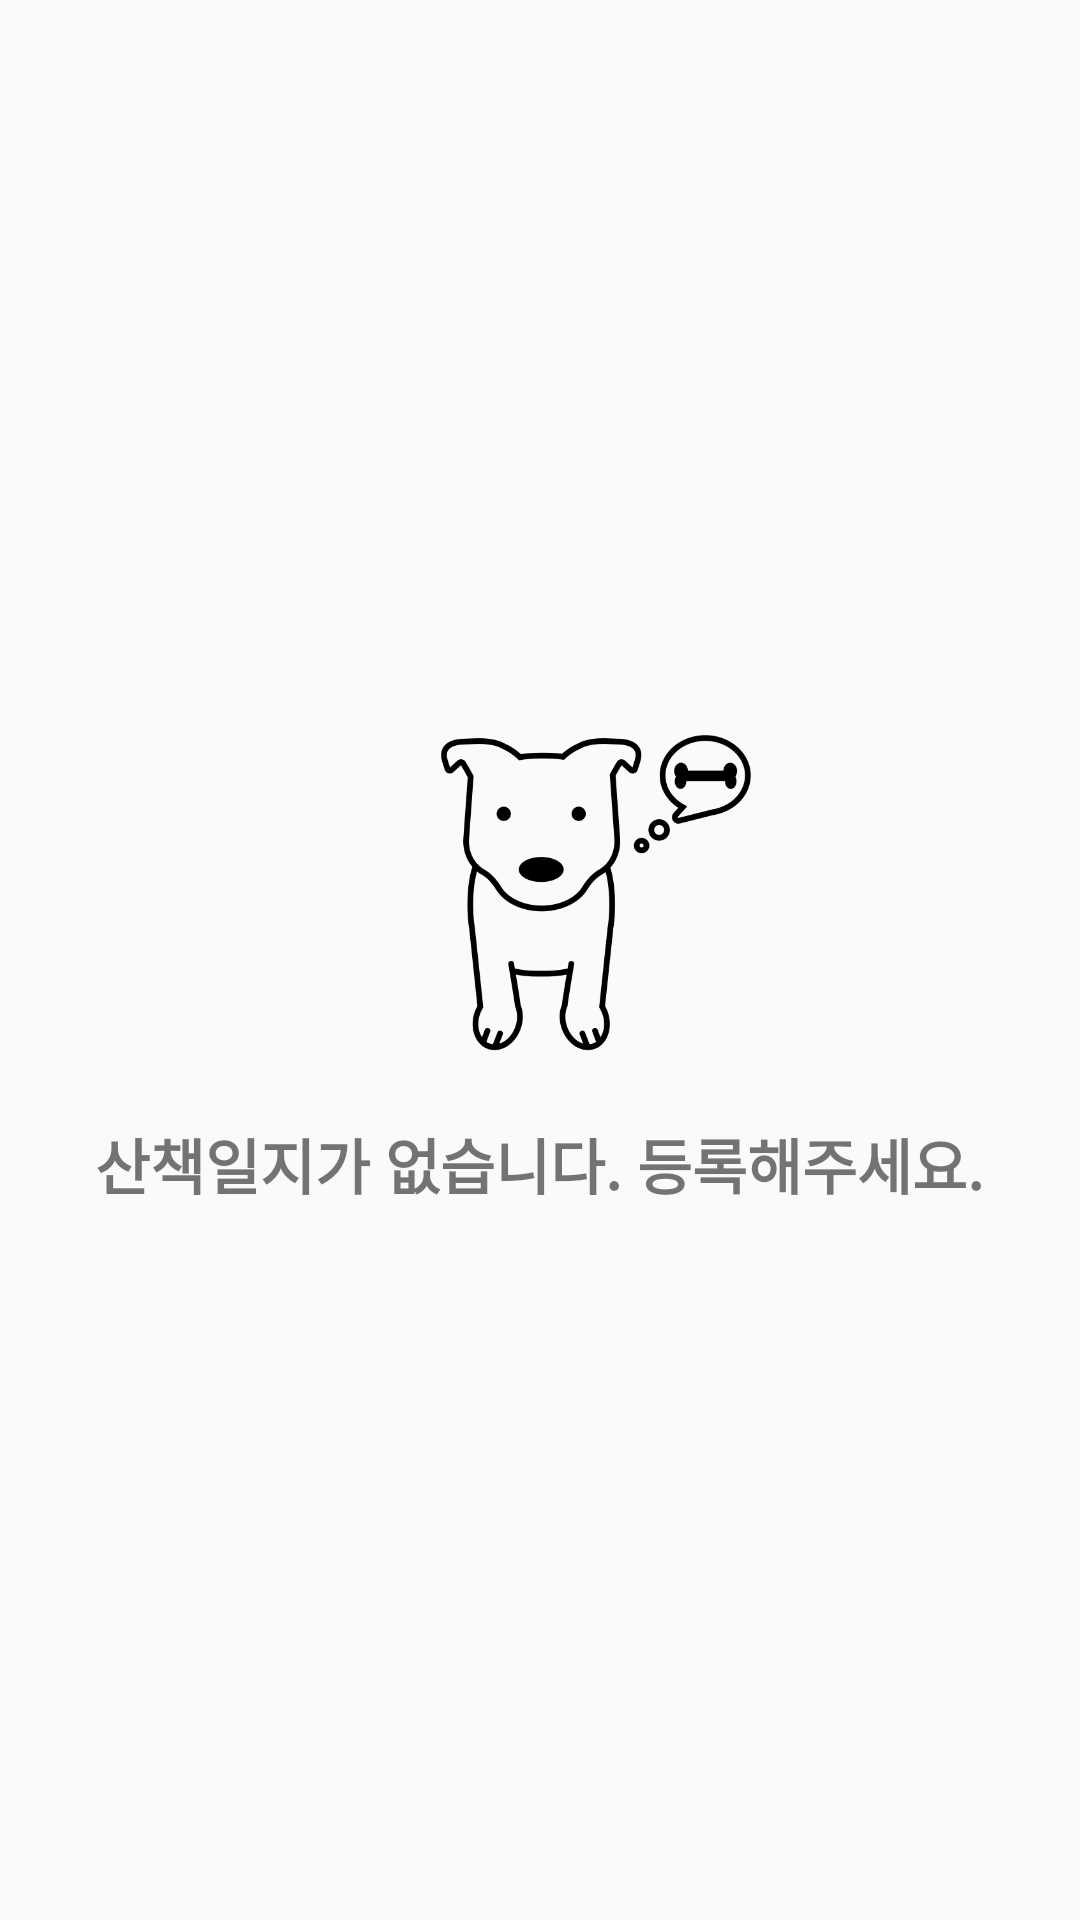

Named icons in this screenshot (1080x1920) and their bounding boxes, (x1, y1, x2, y2):
hungry dog: (441, 735, 751, 1051)
